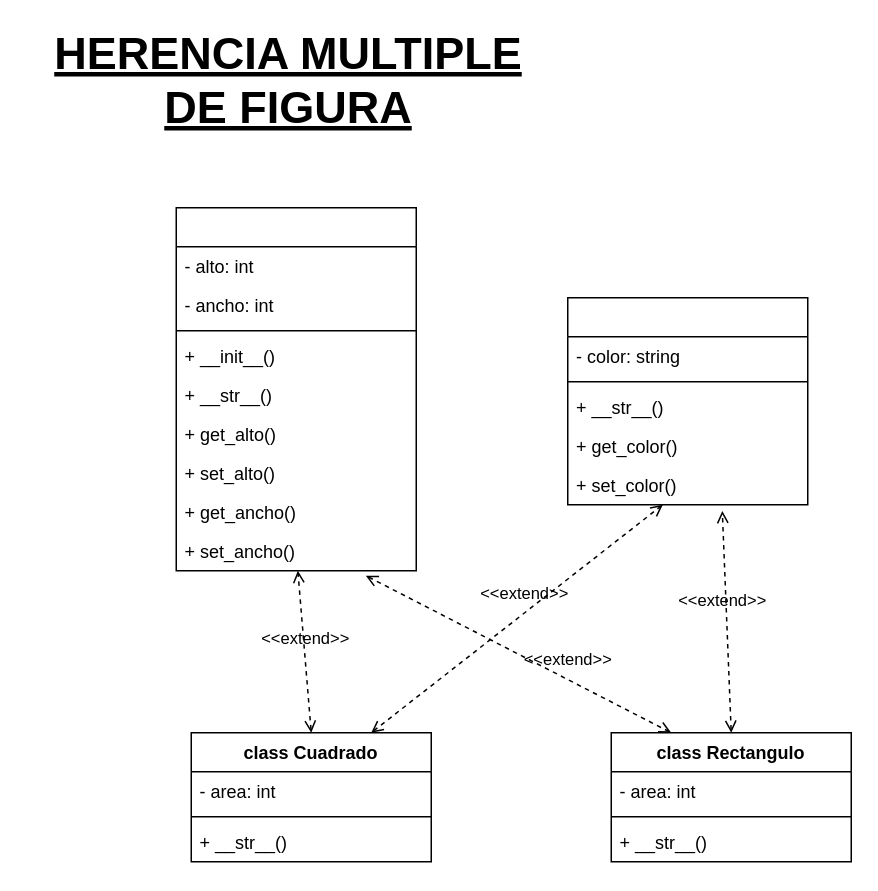
Image size: 878x891. Some labels were removed from this diagram. The box of each missing label's shape, as (x1, y1, x2, y2) in pixels:
class Color: (566, 296, 808, 505)
class FiguraGeometrica: (175, 206, 416, 571)
